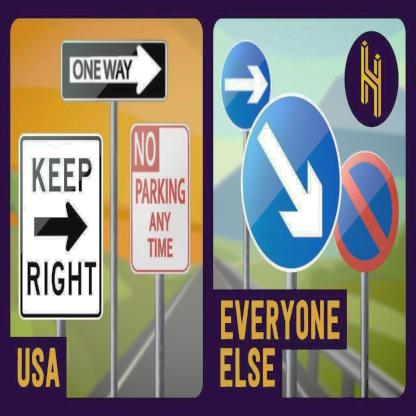Keep right: (240, 94, 341, 274)
